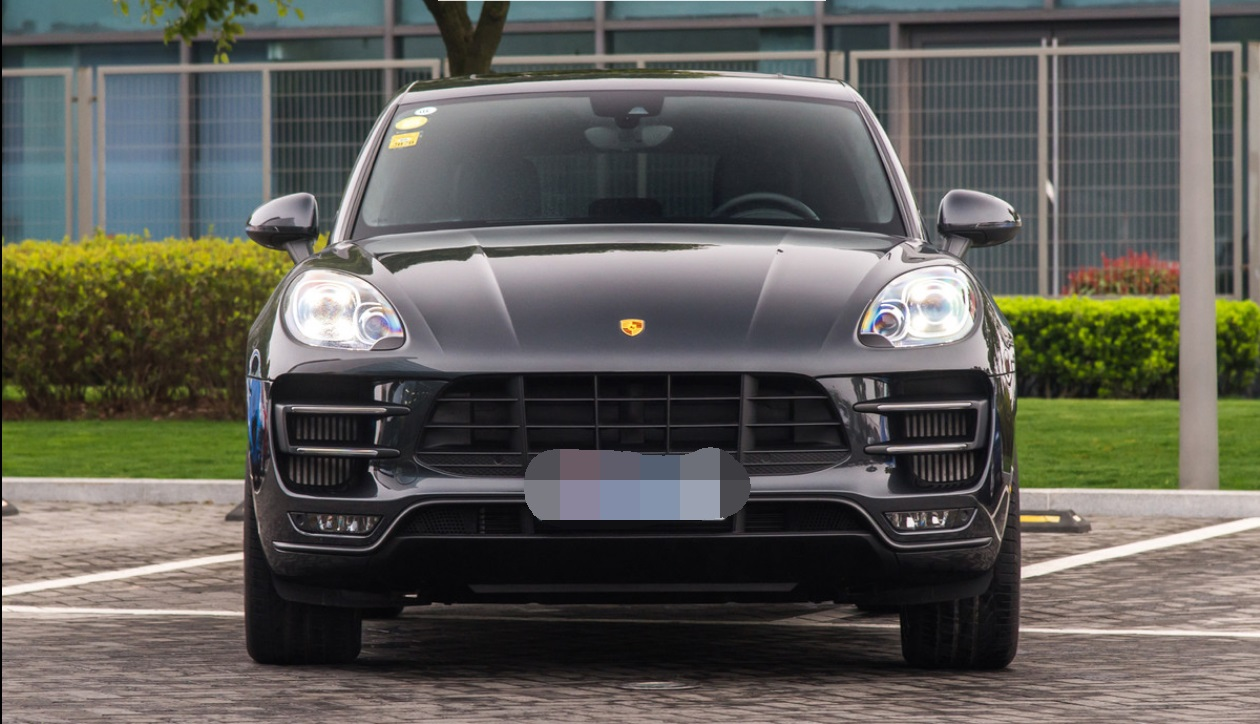SUV: (239, 66, 1040, 695)
